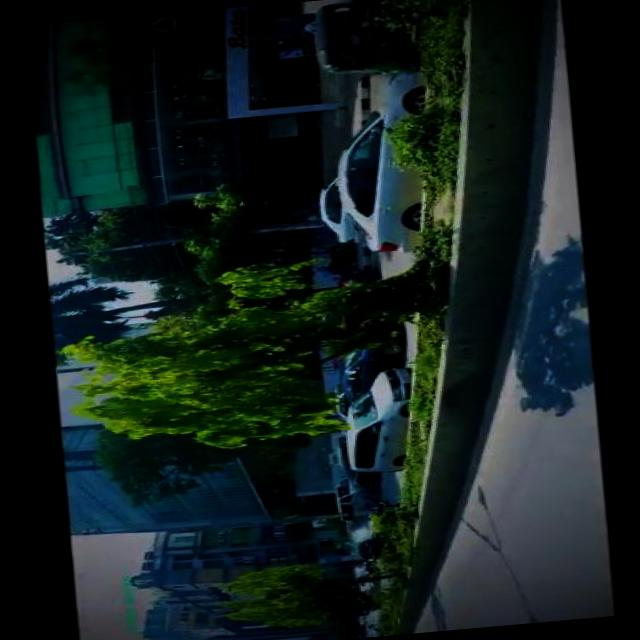car: (325, 69, 432, 257), (334, 366, 413, 476), (334, 318, 402, 396), (310, 176, 357, 247), (346, 502, 392, 563), (360, 610, 380, 630)
motorcycle: (307, 0, 418, 78)
truck: (332, 474, 376, 521)
